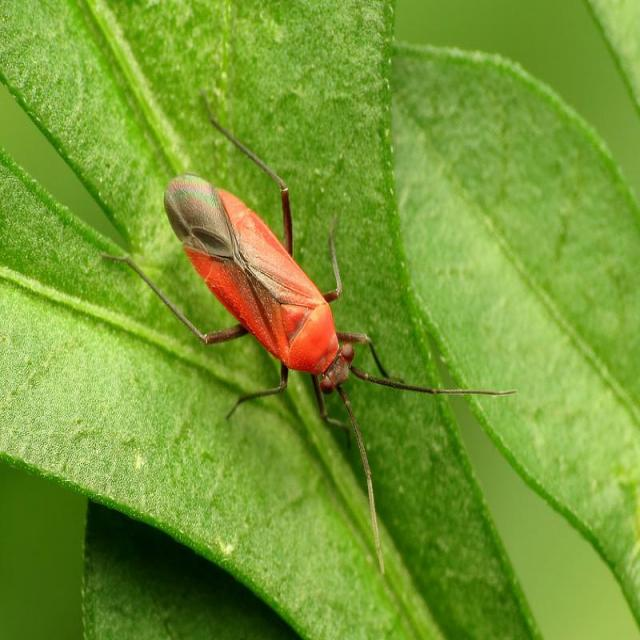Miridae-Adult-: (112, 91, 514, 526)
